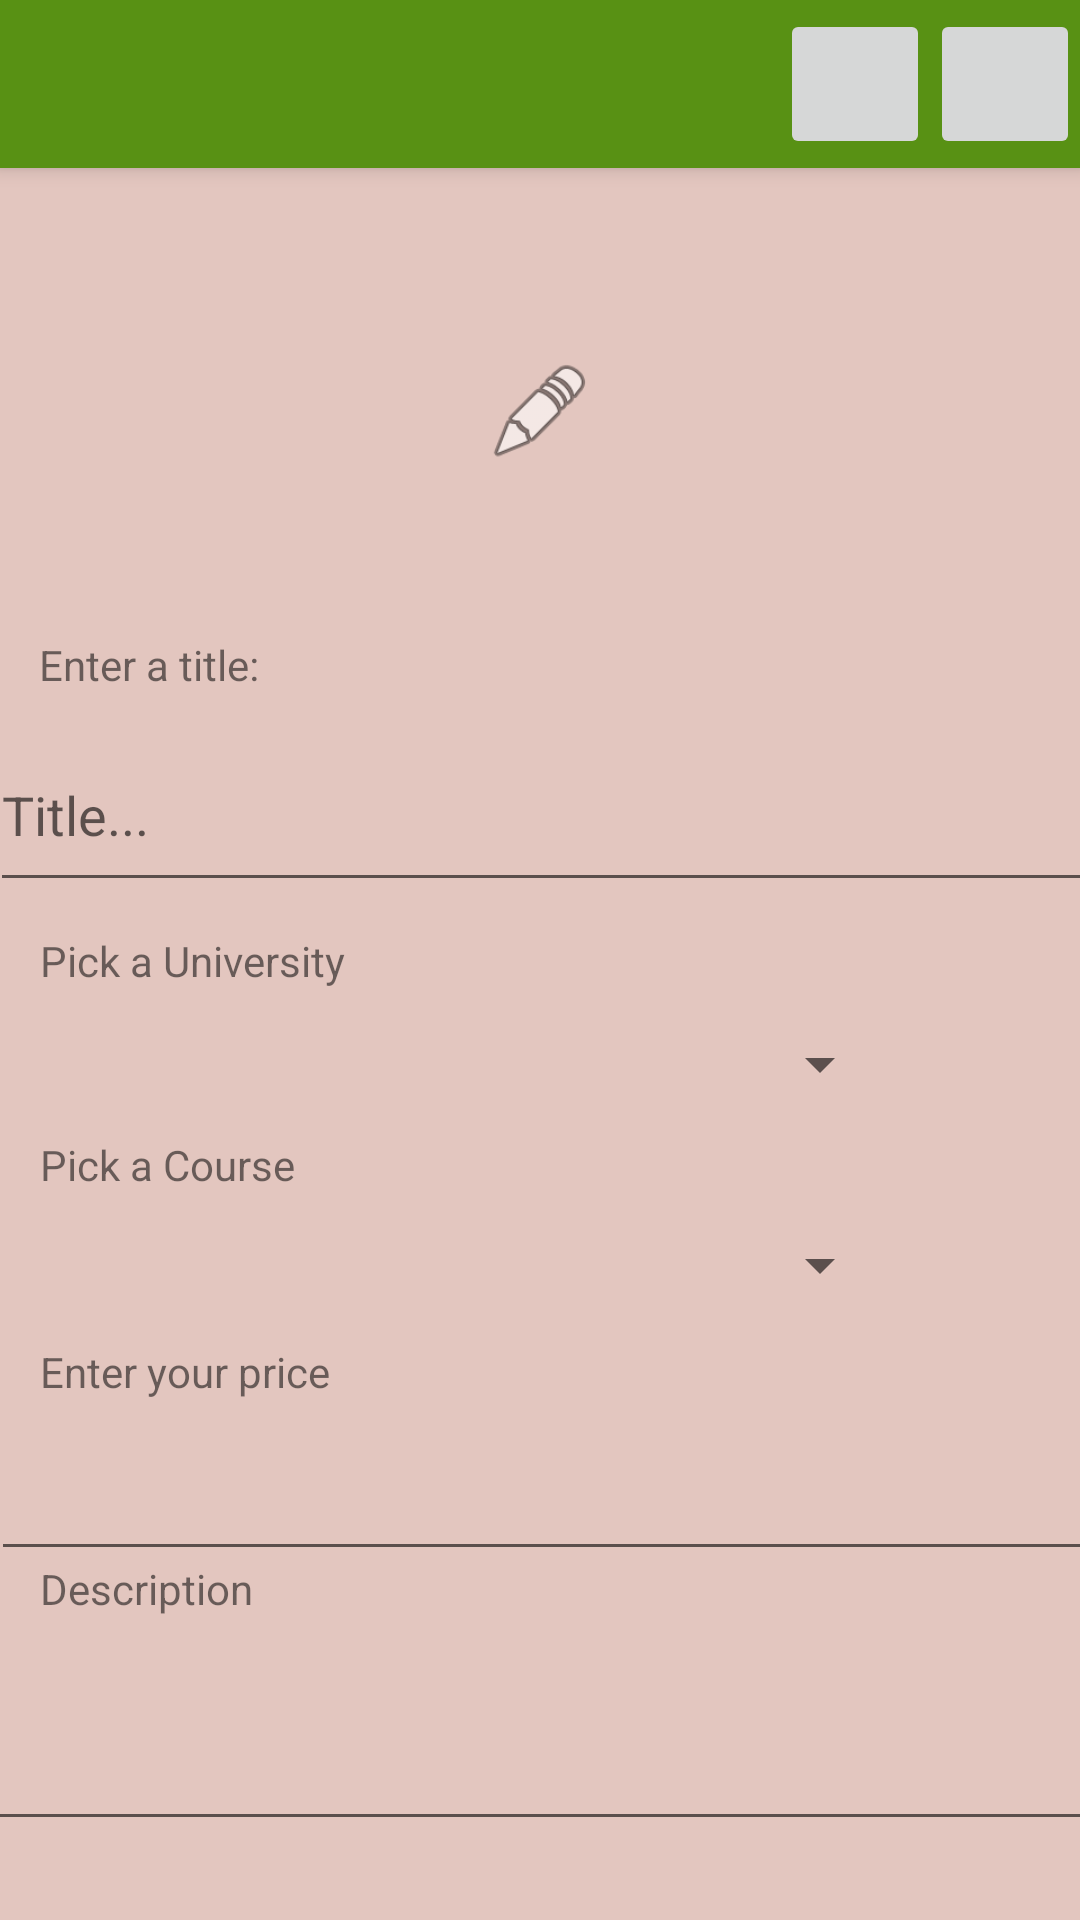

Named icons in this screenshot (1080 x 1920) and their centers, (x,y):
edit: (539,411)
